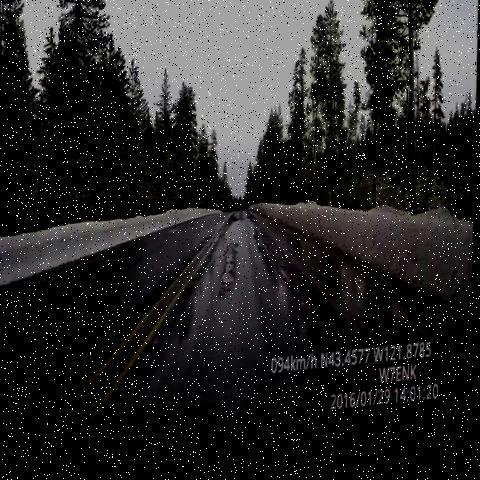pothole: (259, 230, 304, 309), (212, 230, 253, 311), (135, 327, 163, 384), (190, 239, 214, 292)
